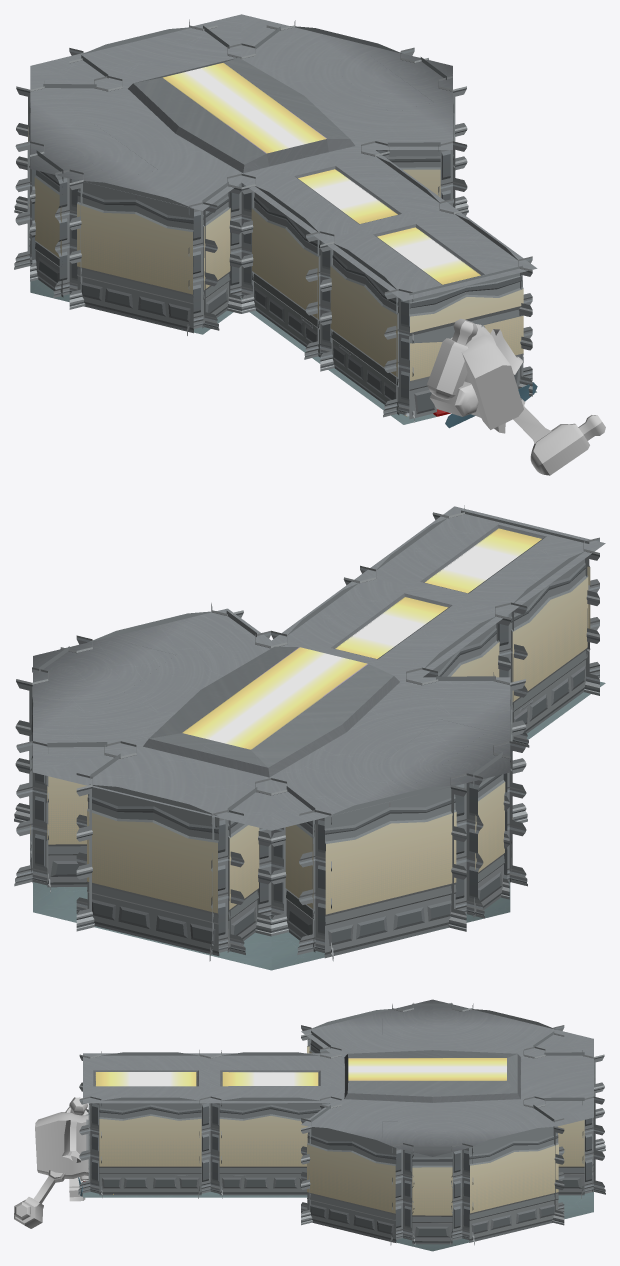
File: HalloffameFinal.fbx
The picture shows the model from 3 angles, top to bottom: view 1: azimuth 30°, elevation 25°; view 2: azimuth 150°, elevation 25°; view 3: azimuth 270°, elevation 25°; orthographic projection. The views are drawn at different scales.
Parts seen in each view (by area): view 1: Architecture, Drone_Body; view 2: Architecture; view 3: Architecture, Drone_Body.
Boxes of the visible parts, left/top/right/bottom form: Architecture: left=14, top=14, right=537, bottom=424; Drone_Body: left=427, top=318, right=605, bottom=475; Architecture: left=14, top=505, right=605, bottom=970; Architecture: left=78, top=999, right=605, bottom=1251; Drone_Body: left=14, top=1097, right=88, bottom=1228.
Bounding box in the file's own units: 3831 × 1624 × 6085.
